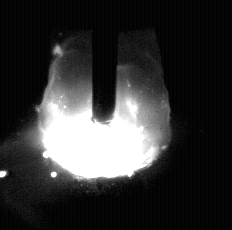arame: (93, 0, 117, 124)
poca: (37, 0, 171, 230)
